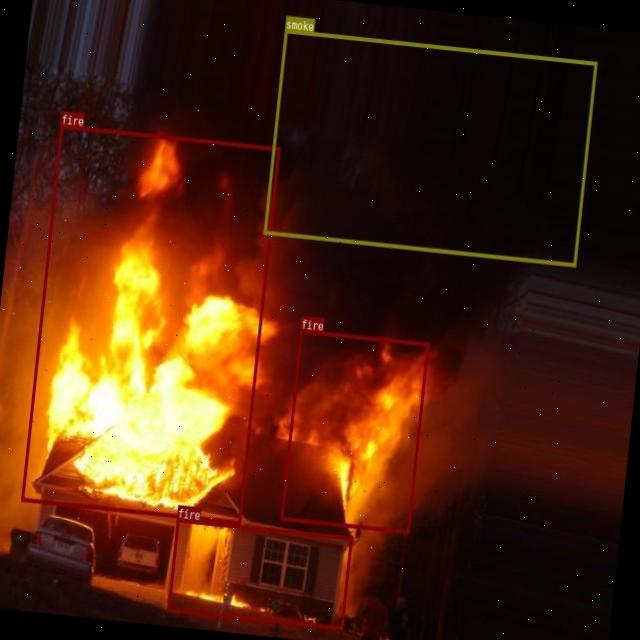fire: (20, 124, 278, 524), (280, 329, 428, 533), (166, 517, 352, 629)
smoke: (263, 28, 596, 266)
